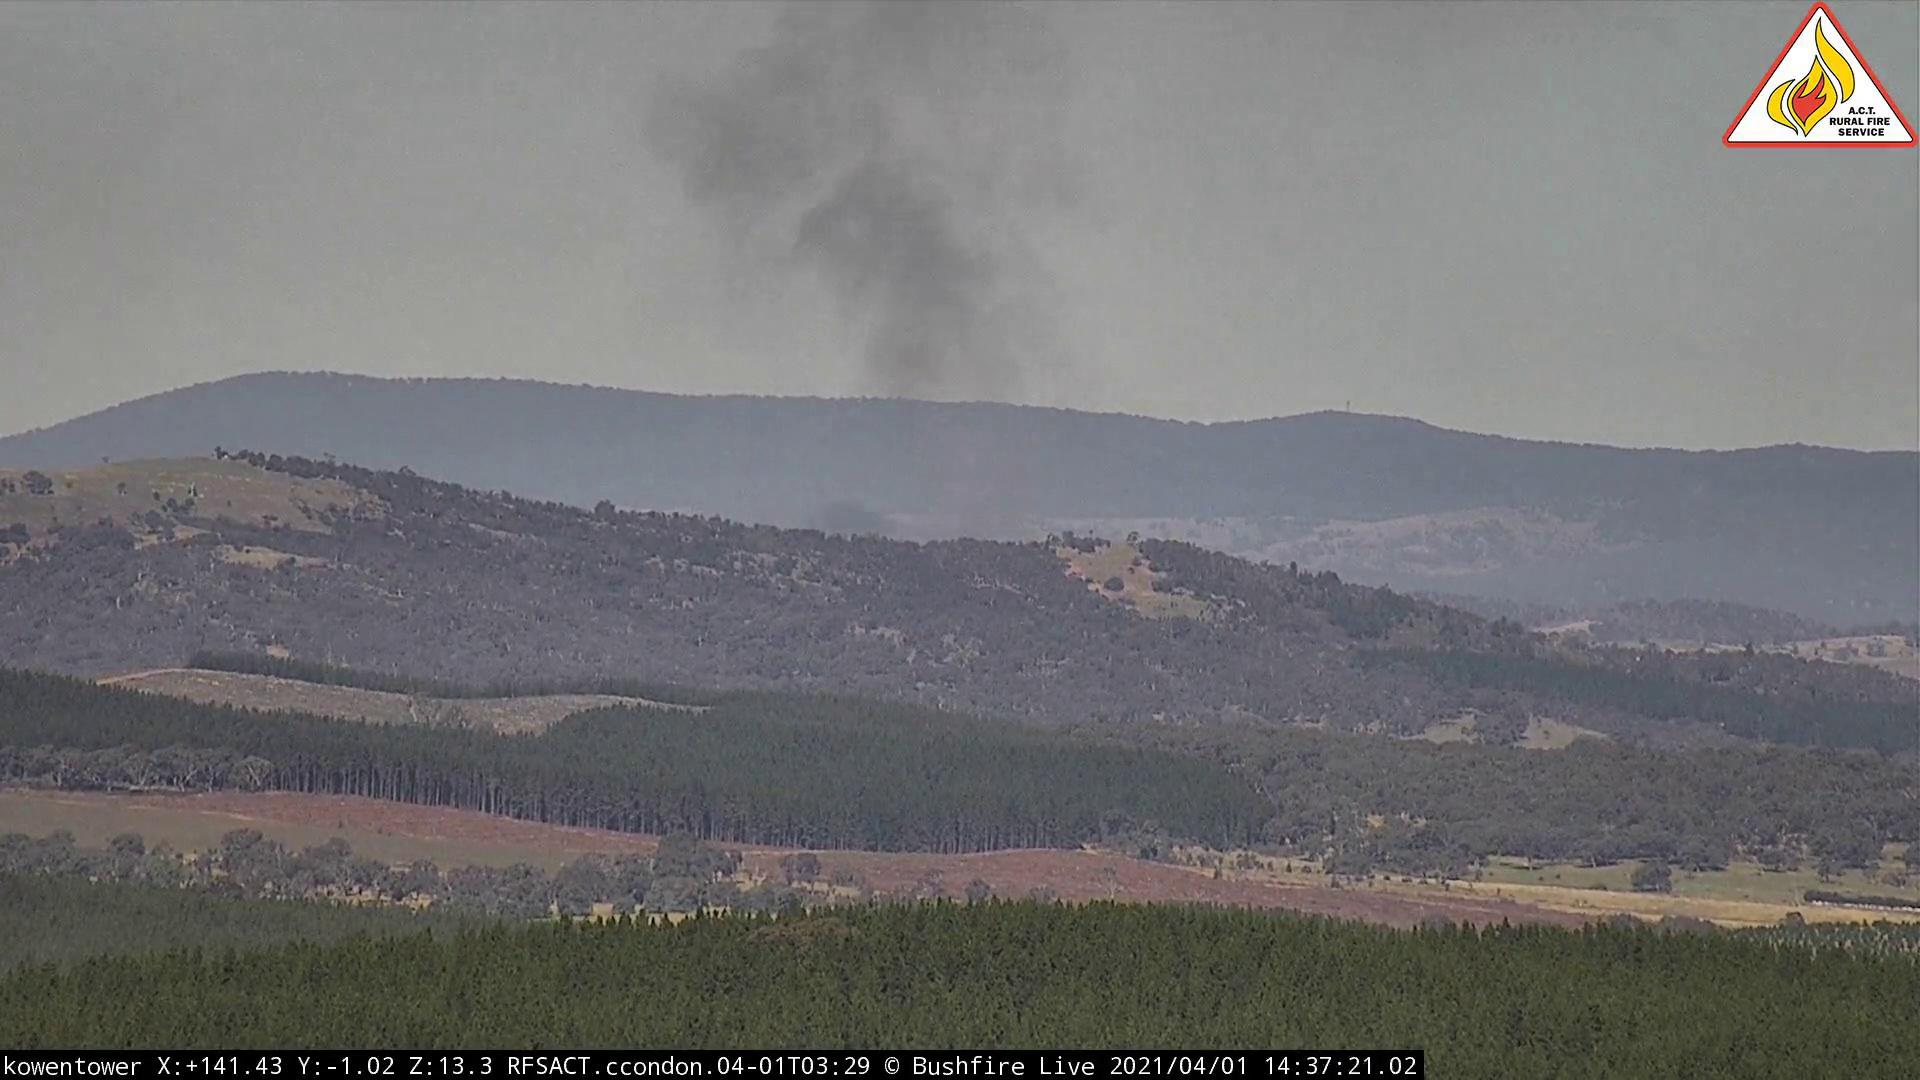Smoke: (634, 3, 1124, 560)
